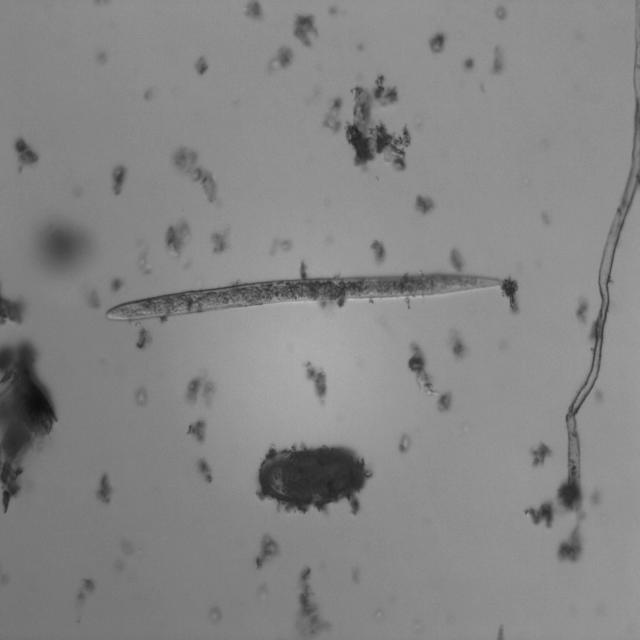Meloidogyne: (96, 256, 509, 334)
